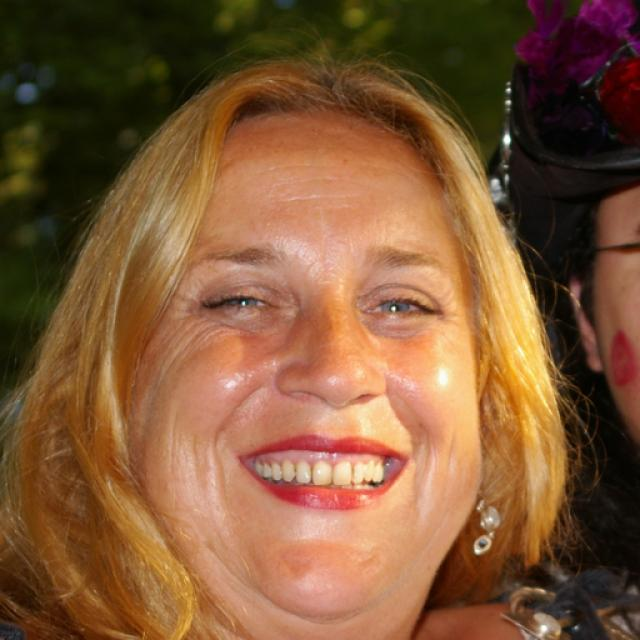Pigmentation: (285, 300, 377, 377)
